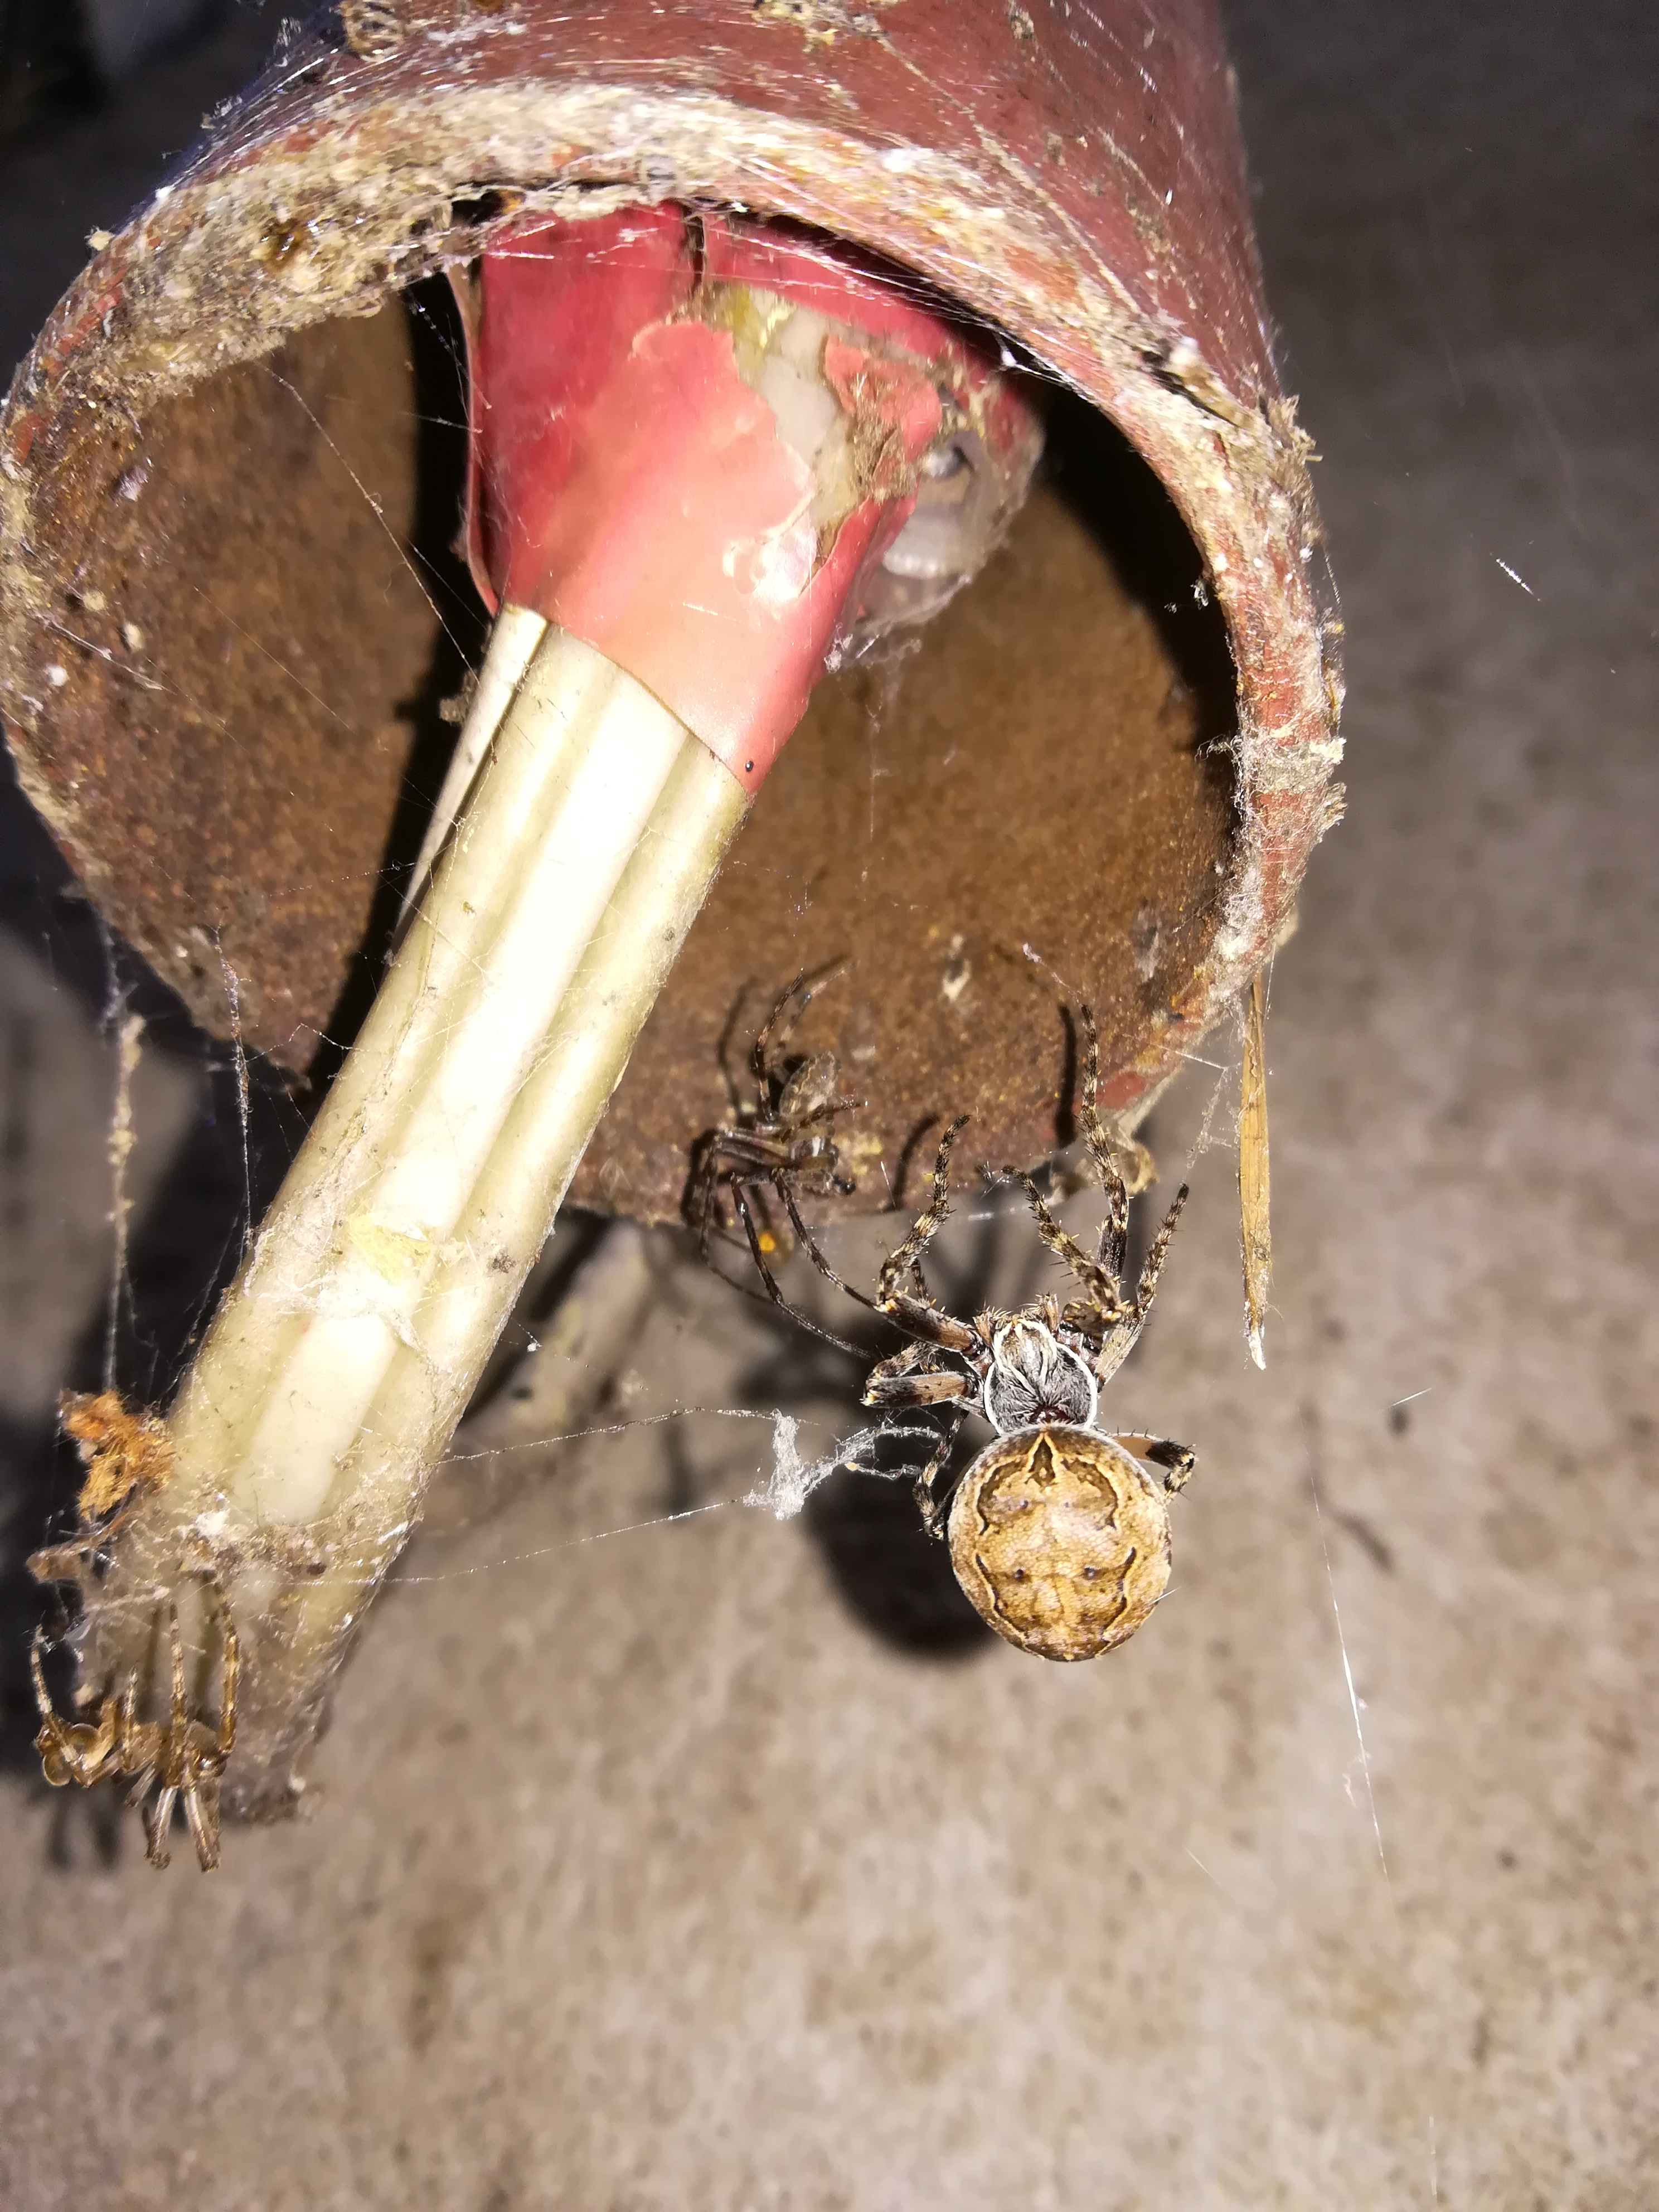spider: (817, 1076, 1218, 1702), (2, 1548, 355, 1912), (647, 948, 899, 1366)
